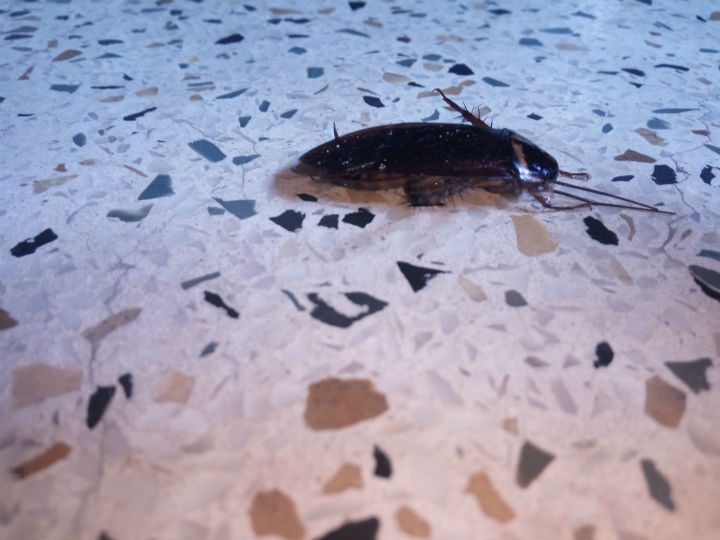cockroach: (223, 56, 700, 295)
